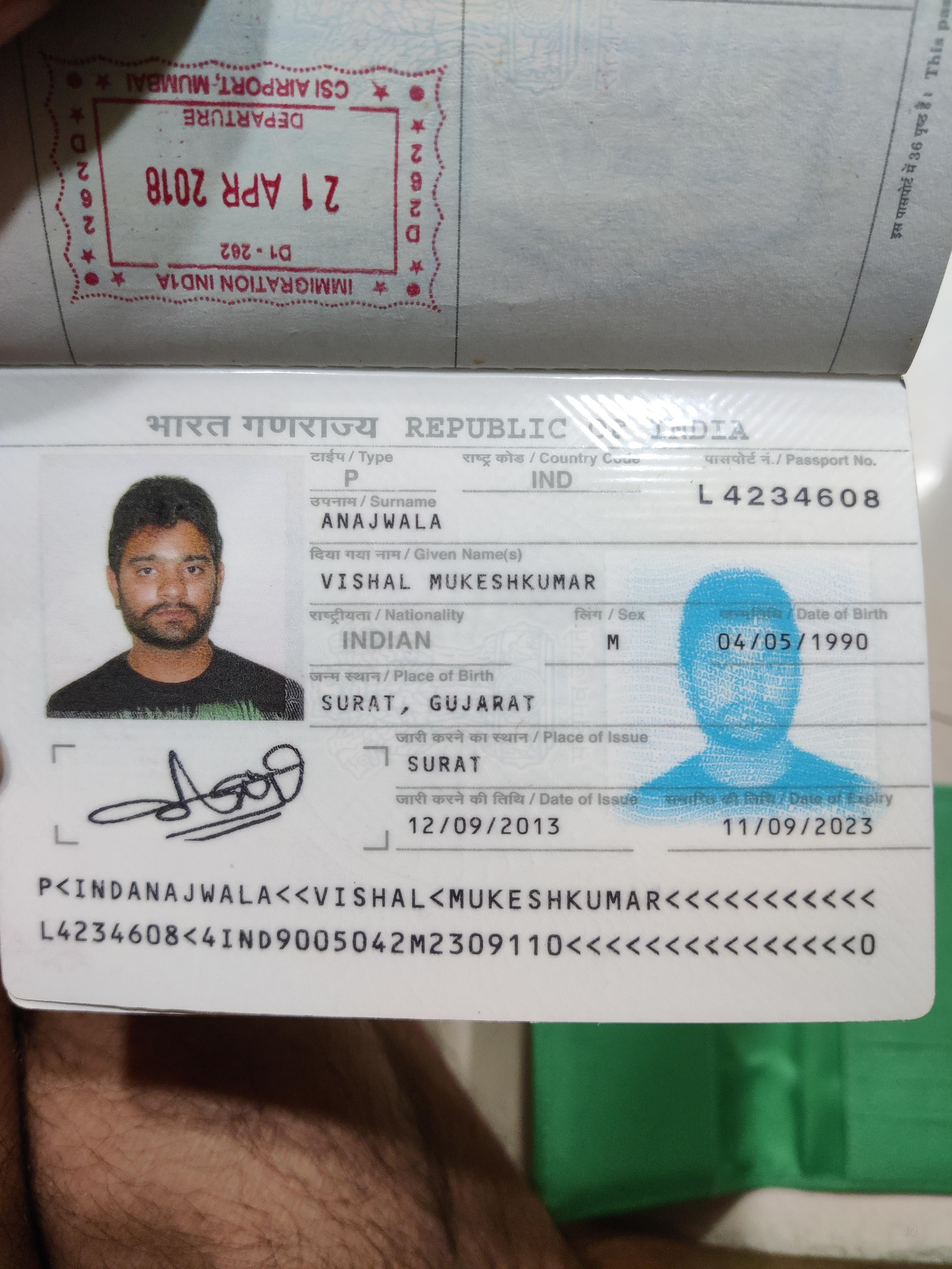DOB: (709, 625, 884, 666)
Surname: (317, 510, 450, 540)
country_code: (523, 463, 585, 498)
date_of_expiry: (713, 811, 883, 842)
date_of_issue: (400, 809, 565, 846)
details: (24, 862, 886, 962)
name: (319, 563, 608, 596)
nationality: (332, 622, 438, 659)
passport_no: (692, 474, 902, 527)
photo: (41, 453, 305, 716)
place_of_birth: (313, 685, 552, 716)
place_of_issue: (398, 746, 489, 783)
sex: (593, 625, 638, 676)
sign: (107, 739, 322, 849)
type: (335, 464, 371, 494)
